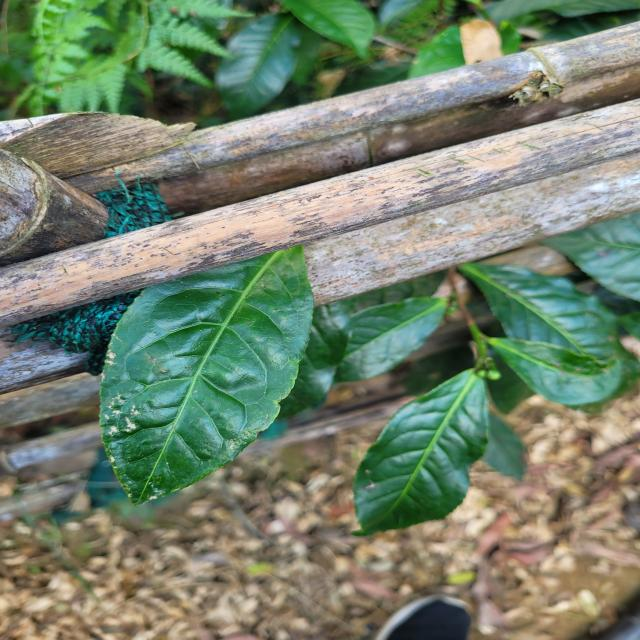Category D(7+ days, Not for Tea): (66, 242, 340, 524)
